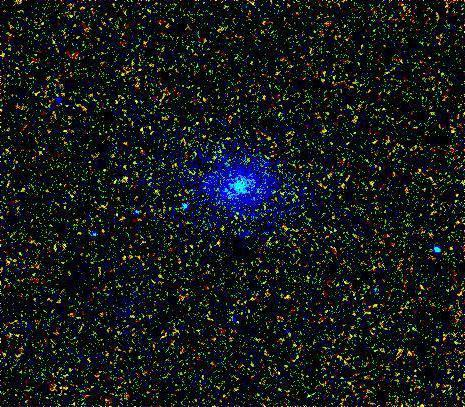star: (48, 234, 78, 264)
